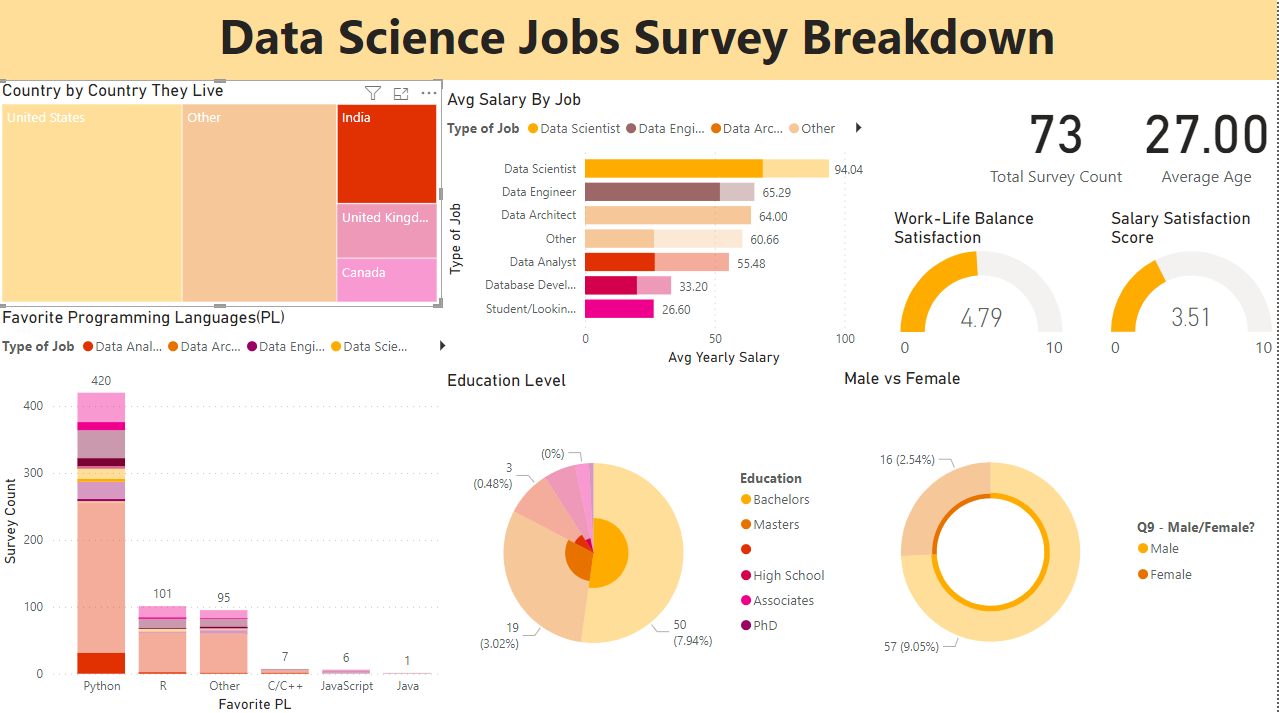

What the dashboard file says about the page in this screenshot:
{"tool":"powerbi","page":{"name":"Page 1","canvas":[1280,720],"ordinal":0},"visuals":[{"type":"textbox","box":[0,0,1280,83.2],"z":0},{"type":"card","fields":{"Values":["Count(Data Professional Survey.Unique ID)"]},"box":[978.7,84,159.9,111.7],"z":1000},{"type":"card","fields":{"Values":["Avg(Data Professional Survey.Q10 - Current Age)"]},"box":[1138.6,84,141.4,111.7],"z":2000},{"type":"barChart","title":"Avg Salary By Job","fields":{"Category":["Data Professional Survey.Q1 - Which Title Best Fits your Current Role?.1"],"Y":["Avg(Data Professional Survey.Average Salary)"],"Series":["Data Professional Survey.Q1 - Which Title Best Fits your Current Role?.1"]},"box":[444.8,92.5,436.6,280.4],"z":3000},{"type":"columnChart","title":"Favorite Programming Languages(PL)","fields":{"Category":["Data Professional Survey.Q5 - Favorite Programming Language.1"],"Y":["Count(Data Professional Survey.Unique ID)"],"Series":["Data Professional Survey.Q1 - Which Title Best Fits your Current Role?.1"]},"box":[0,310.2,465.4,409.9],"z":4000},{"type":"treemap","fields":{"Group":["Data Professional Survey.Q11 - Which Country do you live in?.1"],"Values":["CountNonNull(Data Professional Survey.Q11 - Which Country do you live in?.1)"]},"box":[0,83.2,444.8,227],"z":5000},{"type":"donutChart","title":"Male vs Female","fields":{"Y":["CountNonNull(Data Professional Survey.Q9 - Male/Female?)"],"Category":["Data Professional Survey.Q9 - Male/Female?","Data Professional Survey.Q11 - Which Country do you live in?.1"]},"box":[842.4,370.9,437.6,349.3],"z":6000},{"type":"gauge","title":"Salary Satisfaction Score","fields":{"Y":["Avg(Data Professional Survey.Q6 - How Happy are you in your Current Position with the following? (Salary))"],"MinValue":["Min(Data Professional Survey.Q6 - How Happy are you in your Current Position with the following? (Salary))"],"MaxValue":["Max(Data Professional Survey.Q6 - How Happy are you in your Current Position with the following? (Salary))"]},"box":[1109.5,210.6,170.5,160.3],"z":7000},{"type":"gauge","title":"Work-Life Balance Satisfaction","fields":{"Y":["Avg(Data Professional Survey.Q6 - How Happy are you in your Current Position with the following? (Work/Life Balance))"],"MinValue":["Min(Data Professional Survey.Q6 - How Happy are you in your Current Position with the following? (Work/Life Balance))"],"MaxValue":["Max(Data Professional Survey.Q6 - How Happy are you in your Current Position with the following? (Work/Life Balance))"]},"box":[891.7,210.6,184.9,160.3],"z":8000},{"type":"pieChart","title":"Education Level","fields":{"Y":["CountNonNull(Data Professional Survey.Q12 - Highest Level of Education)"],"Category":["Data Professional Survey.Q12 - Highest Level of Education"]},"box":[444.8,372.9,397.6,347.2],"z":9000}]}

Visuals, with their boxes in screenshot pixels (x1, y1, x2, y2), scaled from the page's 1280x720 canvas onto the 1279x713 screenshot:
textbox: 0/0/1278/82
card - Count(Data Professional Survey.Unique ID): 978/83/1138/194
card - Avg(Data Professional Survey.Q10 - Current Age): 1138/83/1278/194
"Avg Salary By Job" barChart: 444/92/881/369
"Favorite Programming Languages(PL)" columnChart: 0/307/465/712
treemap - Data Professional Survey.Q11 - Which Country do you live in?.1 x CountNonNull(Data Professional Survey.Q11 - Which Country do you live in?.1): 0/82/444/307
"Male vs Female" donutChart: 842/367/1278/712
"Salary Satisfaction Score" gauge: 1109/209/1278/367
"Work-Life Balance Satisfaction" gauge: 891/209/1076/367
"Education Level" pieChart: 444/369/842/712
